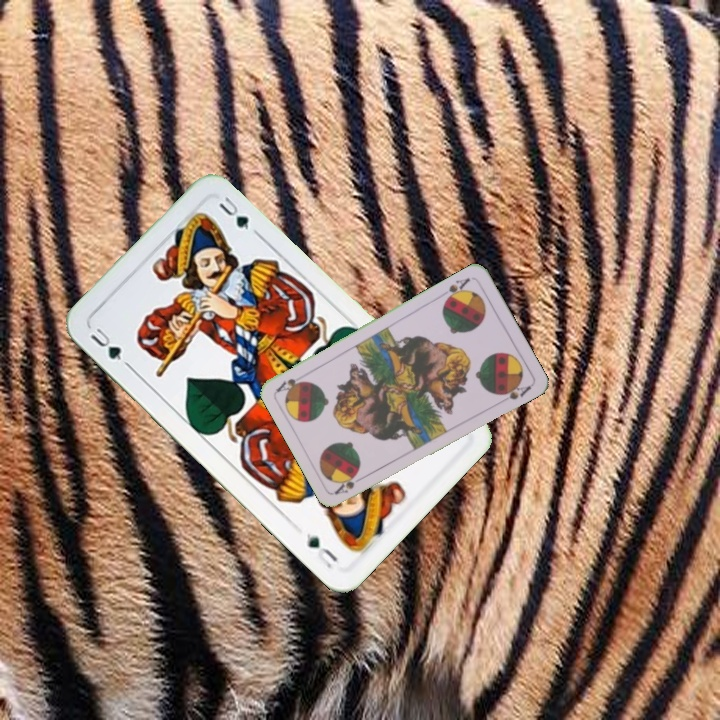GU: (86, 323, 124, 363)
SA: (437, 273, 473, 305), (331, 470, 369, 497)
